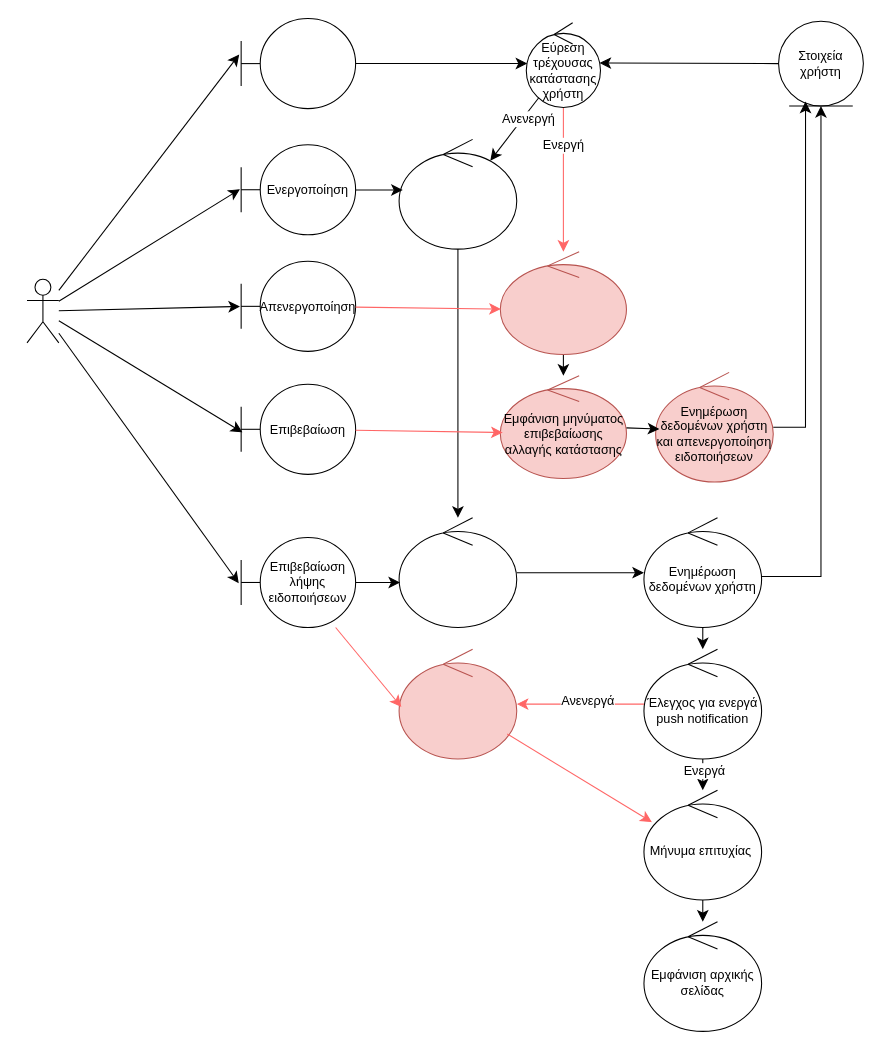
Some shapes in this 882 by 1050 pixel diagram are drawn without their labels. Each missing label, with the centre of its shape:
"Διαχείριση Διαθεσιμότητας" belongs at (298,63).
"Ειδοποίηση ενεργοποίησης push notification" belongs at (457,703).
"Εμφάνιση κατάστασης και επιλογής απενεργοποίησης" belongs at (562,303).
"Εμφάνιση κατάστασης και επιλογής ενεργοποίησης" belongs at (457,193).
"Εμφάνιση μηνύματος για ειδοποιήσεις" belongs at (457,572).
"Χρήστης" belongs at (42,310).
